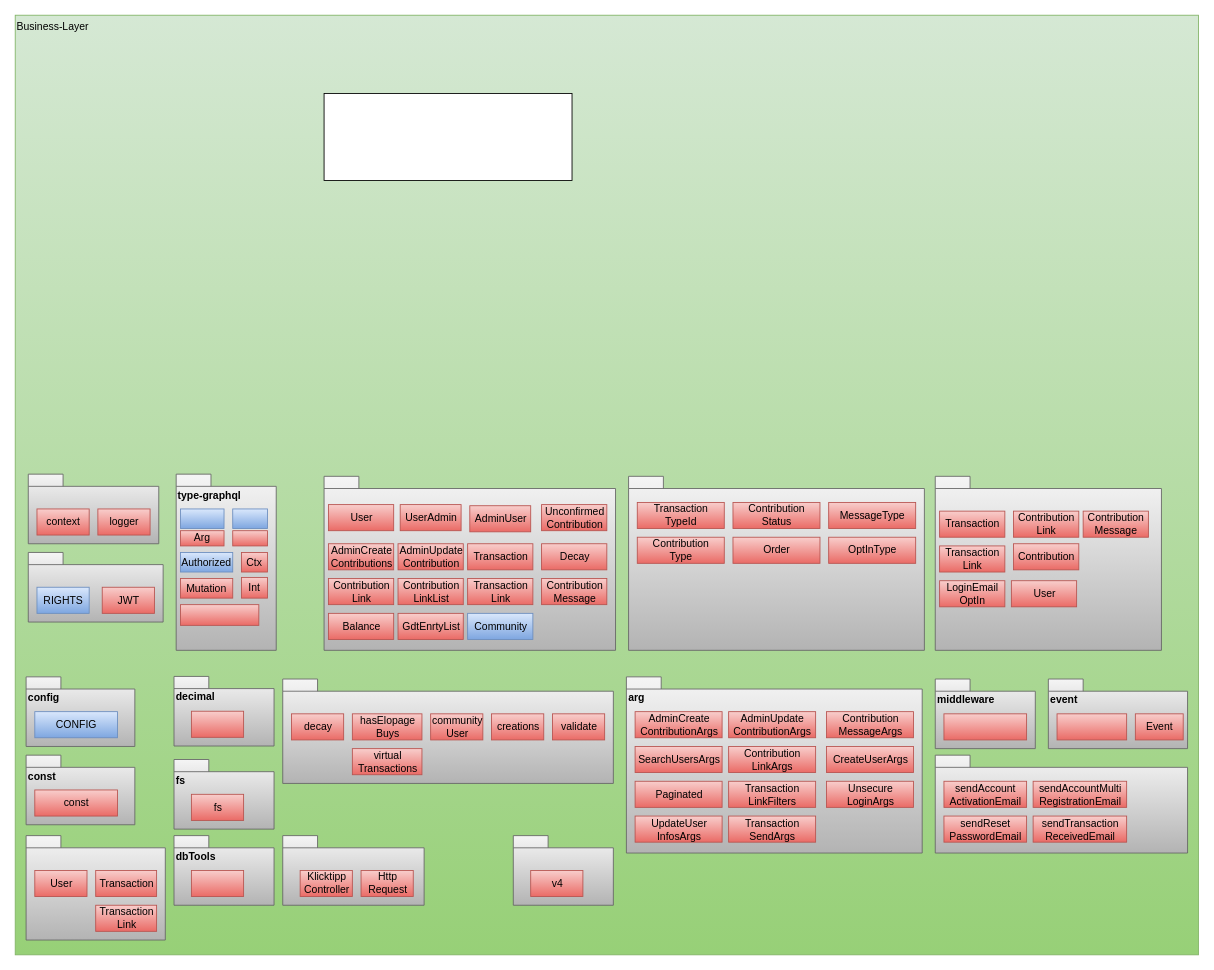
This 1214x970 diagram has some shape labels left out. The box of each missing label's shape, as (x1, y1, x2, y2) in pixels:
apis: (282, 835, 424, 905)
Args: (232, 530, 268, 546)
auth: (27, 552, 163, 622)
CommunityResolver + communities(): Community[] + getCommunityInfo(): Community: (323, 93, 572, 181)
entity: (934, 475, 1161, 650)
enum: (628, 475, 924, 650)
EventProtocol Emitter: (1056, 713, 1127, 740)
js-light: (191, 710, 244, 737)
klicktipp Middleware: (943, 713, 1027, 740)
mailer: (934, 754, 1188, 853)
model: (323, 475, 616, 650)
Query: (232, 508, 268, 529)
repository: (25, 835, 165, 940)
Resolver: (180, 508, 224, 529)
server: (27, 473, 159, 544)
typeorm: (191, 870, 244, 897)
UseMiddleware: (180, 604, 259, 625)
util: (282, 678, 613, 783)
uuid: (512, 835, 613, 905)
